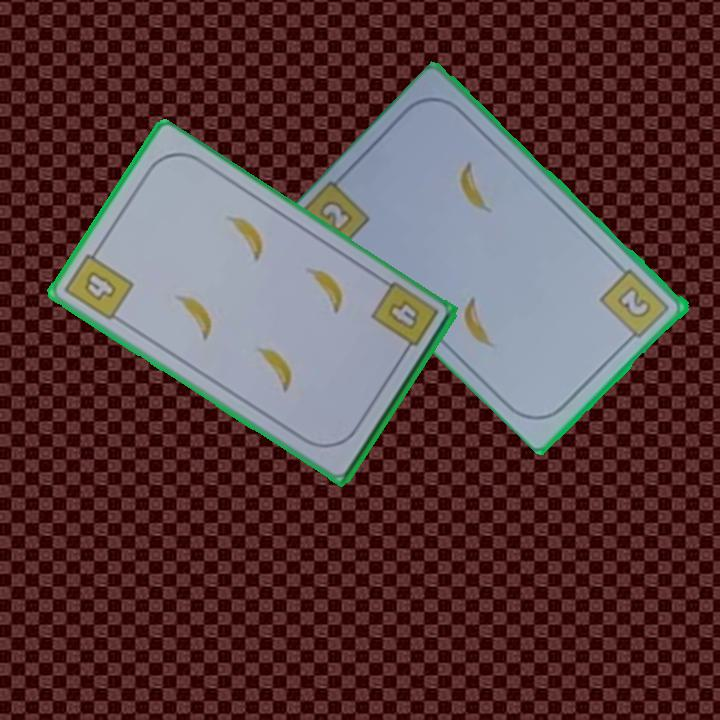2b: (597, 265, 673, 346), (319, 200, 353, 232)
4b: (60, 242, 136, 324), (367, 278, 441, 360)
